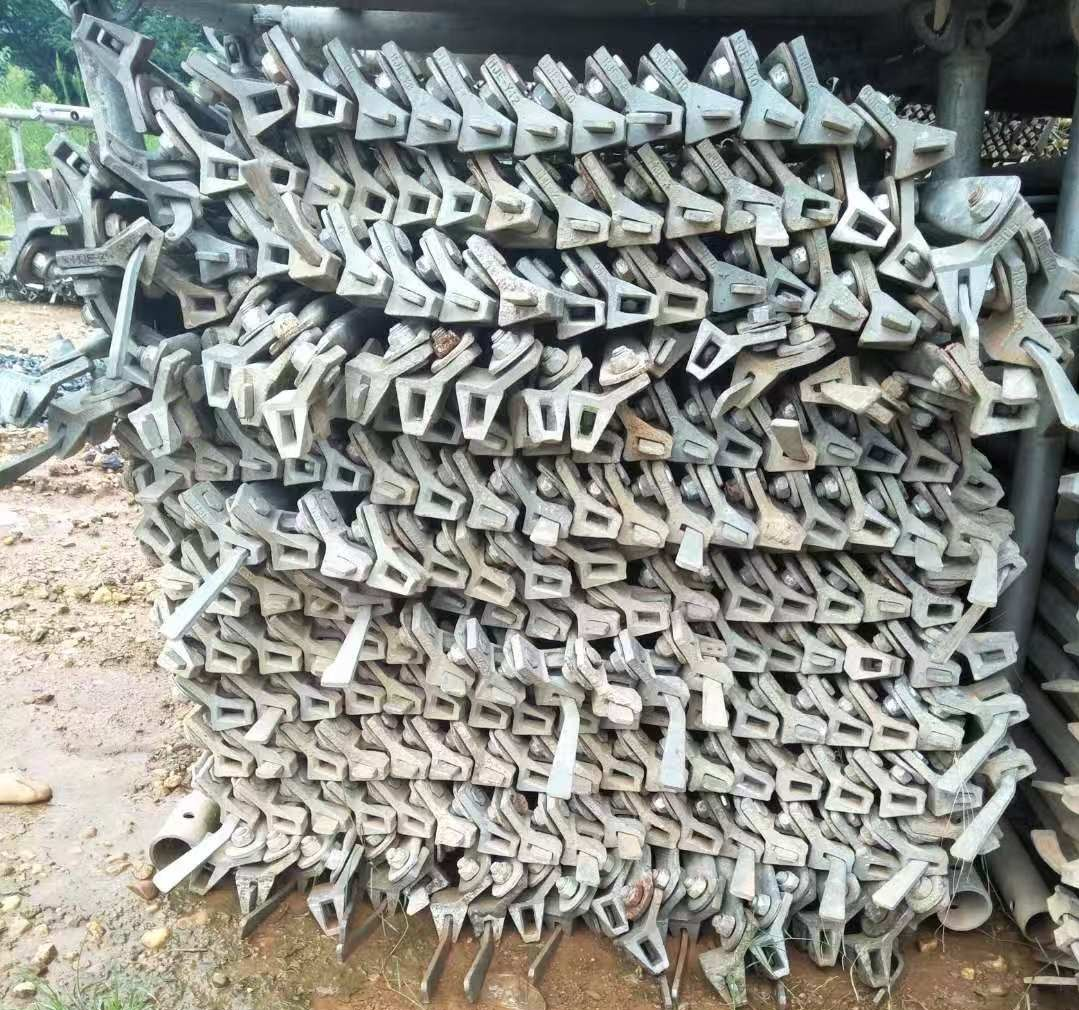circle_steel: (145, 829, 197, 876), (941, 887, 991, 933), (1019, 901, 1055, 946)
sigma_steel: (70, 13, 153, 80), (229, 75, 294, 140), (970, 386, 1038, 442), (261, 396, 312, 461), (47, 133, 99, 196), (829, 203, 900, 249), (453, 380, 502, 444), (680, 320, 731, 381), (289, 84, 351, 134), (566, 390, 614, 453), (392, 375, 439, 439), (799, 912, 846, 971), (602, 283, 659, 331), (519, 390, 565, 448), (623, 926, 673, 978), (556, 293, 605, 345), (967, 631, 1021, 678), (201, 351, 243, 410), (952, 462, 1003, 510), (176, 288, 230, 333), (304, 887, 351, 938), (850, 936, 895, 989), (368, 556, 426, 597), (195, 149, 246, 195), (659, 283, 710, 328), (253, 155, 306, 198), (437, 183, 485, 230), (411, 485, 470, 523), (752, 929, 793, 983), (845, 645, 901, 684), (466, 568, 519, 609), (135, 512, 179, 561), (847, 509, 899, 550), (352, 179, 397, 226), (521, 562, 572, 603), (252, 237, 296, 284), (572, 554, 628, 590), (803, 510, 849, 553), (904, 449, 957, 486), (268, 537, 321, 573), (396, 184, 440, 227), (876, 783, 927, 820), (204, 698, 256, 734), (815, 591, 865, 628), (913, 593, 965, 628), (824, 780, 875, 815), (627, 598, 671, 638), (717, 433, 762, 472), (861, 439, 907, 477), (575, 503, 622, 540), (722, 591, 773, 625), (512, 897, 549, 943), (324, 459, 369, 496), (734, 706, 779, 743), (871, 718, 918, 753), (594, 892, 629, 939), (297, 690, 342, 726), (778, 769, 824, 804), (188, 856, 227, 897), (256, 646, 304, 679), (474, 826, 519, 861), (735, 765, 776, 803), (205, 644, 250, 678), (209, 747, 254, 781), (679, 822, 725, 855), (760, 642, 802, 678), (304, 751, 348, 785), (510, 706, 555, 739), (203, 587, 249, 619), (426, 556, 469, 590), (828, 715, 872, 748), (775, 592, 817, 626), (856, 848, 899, 881), (603, 761, 645, 793), (263, 808, 309, 837), (728, 641, 767, 675), (356, 805, 396, 838), (467, 703, 510, 733), (428, 589, 474, 617), (399, 806, 435, 841), (517, 761, 552, 796), (645, 817, 682, 849), (423, 696, 465, 723), (347, 689, 385, 716), (356, 636, 386, 662)
sigma_steel_blocked: (985, 310, 1065, 372), (109, 214, 168, 290), (932, 249, 990, 326), (895, 121, 959, 184), (879, 231, 943, 289), (341, 354, 391, 428), (722, 181, 784, 235), (682, 92, 743, 146), (806, 281, 868, 334), (348, 92, 407, 145), (625, 98, 685, 150), (744, 94, 804, 146), (801, 101, 863, 150), (43, 399, 92, 461), (859, 302, 922, 349), (665, 194, 724, 244), (454, 109, 514, 158), (711, 265, 768, 316), (513, 110, 571, 160), (798, 356, 857, 405), (496, 283, 557, 330), (285, 238, 338, 292), (126, 404, 178, 459), (404, 100, 460, 151), (382, 274, 439, 324), (726, 351, 774, 410), (331, 258, 391, 304), (554, 203, 610, 252), (479, 191, 538, 237), (4, 378, 52, 434), (192, 242, 251, 287), (785, 187, 840, 235), (572, 109, 628, 156), (1035, 266, 1079, 324), (702, 953, 750, 1005), (438, 284, 492, 330), (607, 205, 664, 247), (620, 420, 673, 465), (303, 164, 353, 210), (766, 270, 816, 316), (231, 368, 269, 428), (643, 326, 685, 379), (949, 519, 1003, 560), (892, 520, 949, 558), (975, 695, 1028, 735), (764, 436, 816, 476), (318, 544, 371, 583), (670, 424, 718, 467), (990, 747, 1036, 791), (523, 500, 572, 541), (619, 512, 669, 552), (474, 673, 528, 710), (587, 688, 642, 724), (668, 508, 715, 550), (370, 469, 420, 508), (429, 897, 467, 948), (237, 869, 276, 918), (467, 498, 520, 534), (911, 654, 962, 691), (935, 784, 985, 821), (153, 643, 199, 683), (639, 675, 690, 711), (526, 605, 573, 644), (574, 605, 622, 643), (713, 512, 757, 553), (816, 431, 862, 470), (215, 535, 266, 570), (424, 663, 476, 697), (897, 843, 949, 877), (778, 713, 828, 748), (866, 587, 912, 625), (190, 448, 238, 484), (676, 589, 722, 626), (688, 761, 735, 797), (530, 681, 586, 711), (367, 881, 404, 926), (765, 834, 810, 870), (809, 840, 855, 875), (255, 586, 303, 619), (799, 644, 844, 679), (156, 569, 203, 602), (237, 451, 282, 485), (252, 695, 297, 729), (689, 663, 732, 698), (280, 456, 324, 490), (434, 817, 478, 851), (152, 456, 193, 492), (920, 720, 963, 754), (431, 751, 474, 785), (473, 759, 517, 792), (520, 835, 564, 868), (481, 604, 529, 634), (567, 839, 610, 872), (470, 909, 507, 947), (303, 591, 344, 625), (257, 748, 298, 781), (604, 820, 646, 851), (347, 751, 390, 781), (384, 687, 423, 719), (725, 831, 764, 863), (309, 806, 352, 835), (345, 593, 394, 618), (390, 752, 431, 781), (304, 645, 340, 677), (219, 803, 259, 831), (386, 641, 425, 669), (569, 764, 603, 796)
